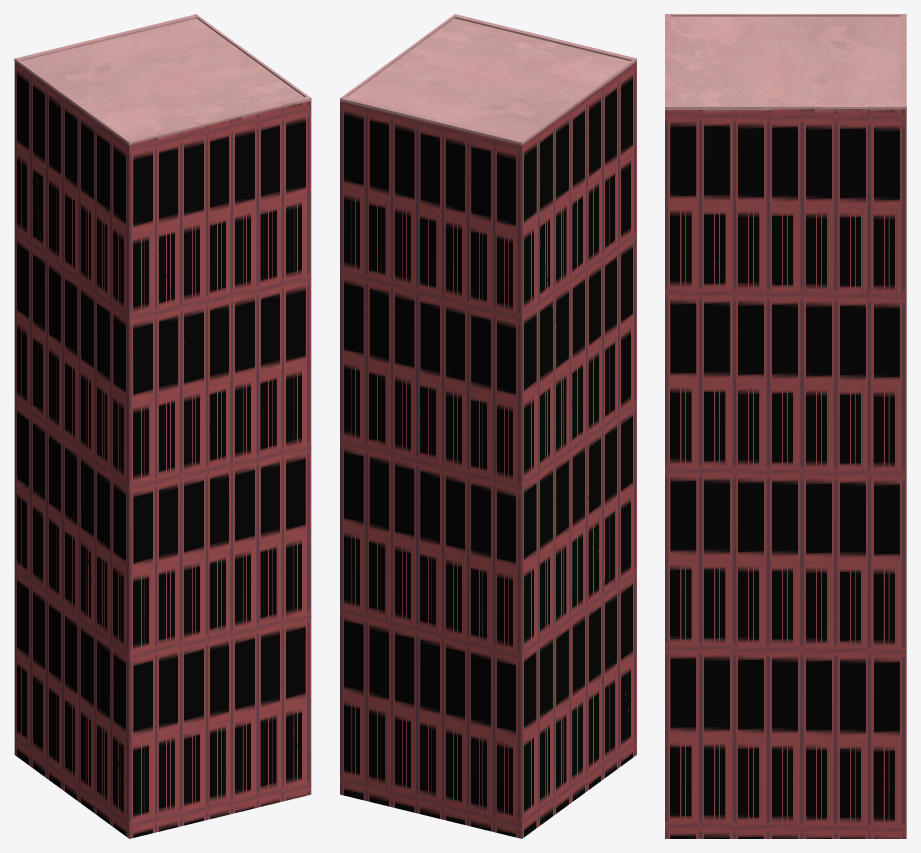
File: build7.fbx
The picture shows the model from 3 angles, left to right: view 1: azimuth 30°, elevation 25°; view 2: azimuth 150°, elevation 25°; view 3: azimuth 270°, elevation 25°; orthographic projection. The views are drawn at different scales.
Visible parts, largest first — view 1: Construction_Building; view 2: Construction_Building; view 3: Construction_Building.
Boxes of the visible parts, <box> form: Construction_Building: <box>14,14,311,838</box>; Construction_Building: <box>340,14,636,838</box>; Construction_Building: <box>665,14,906,838</box>.
Size of the model in its own units: 272 by 993 by 297.
1 material, 1 textured.
